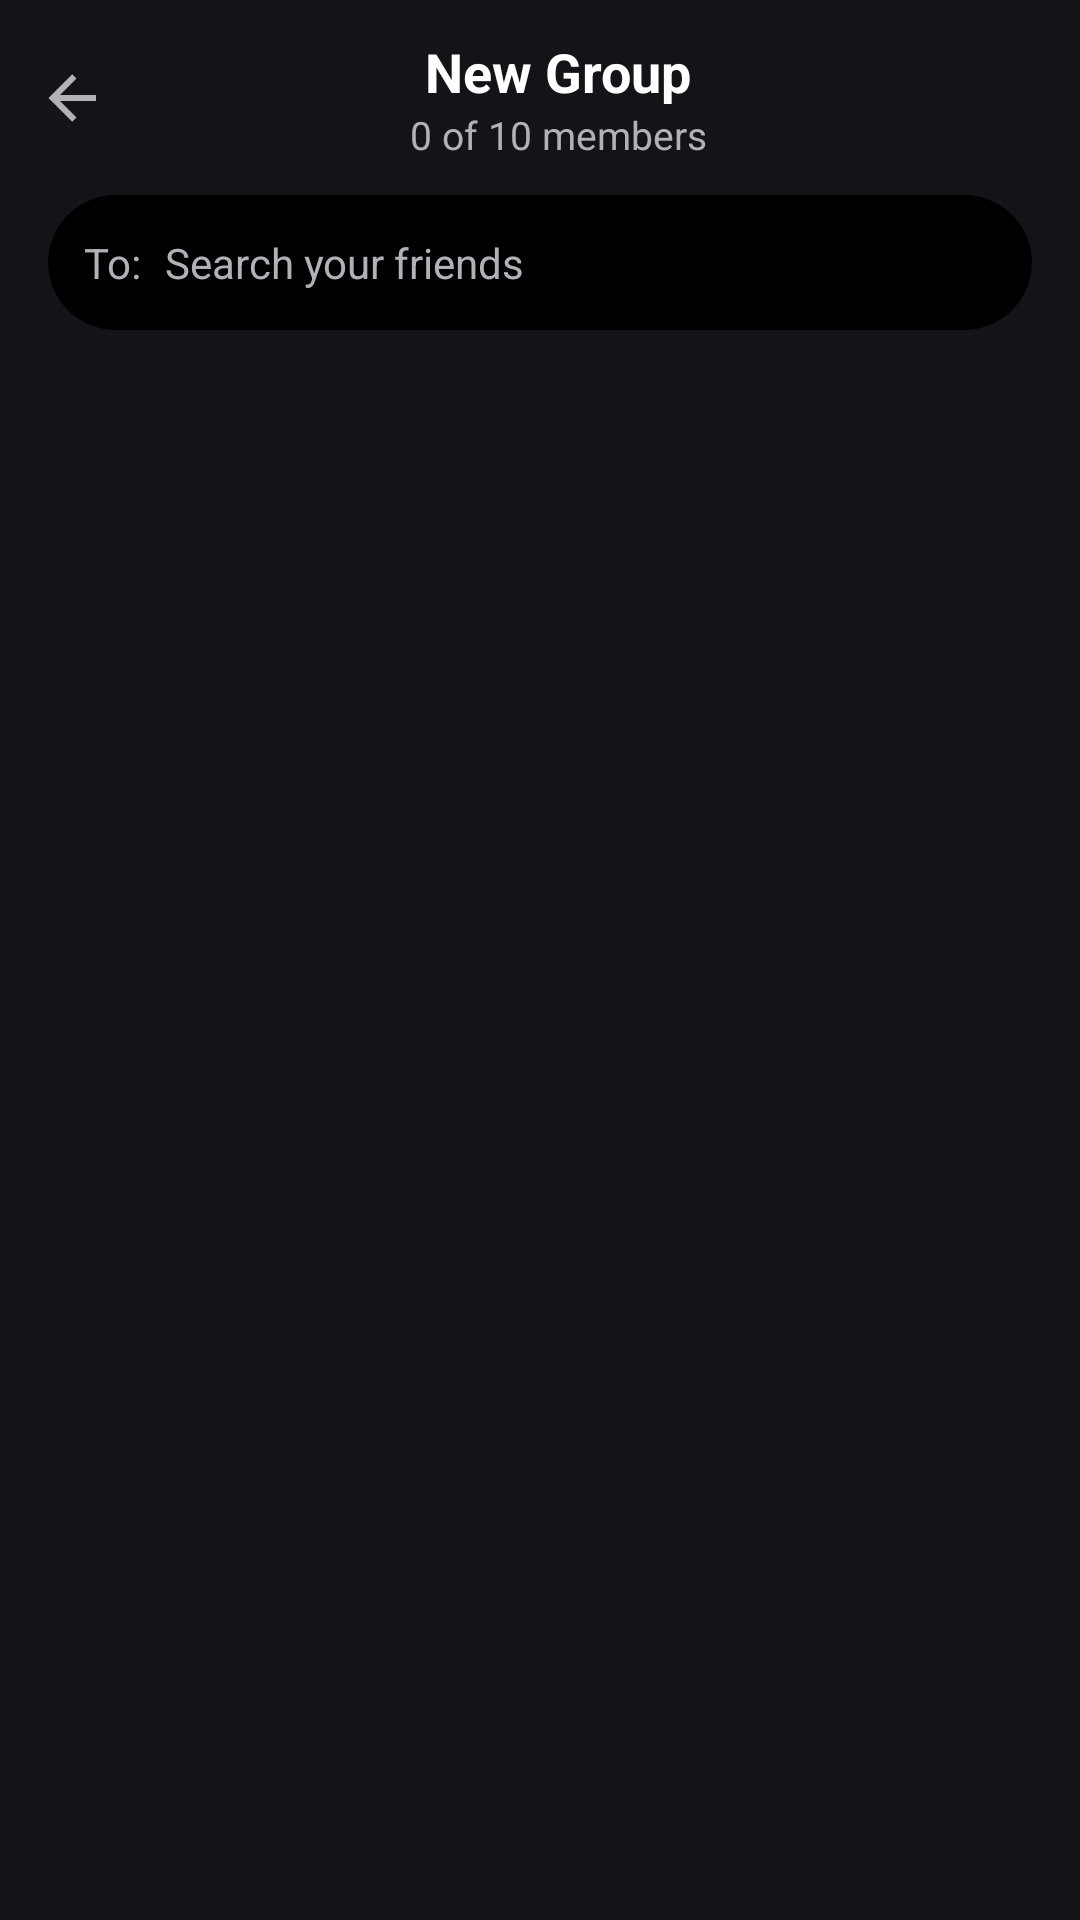

Where to tap for icons on this 1080px x 1920px app screen, as (x,y):
Back: (72,98)
